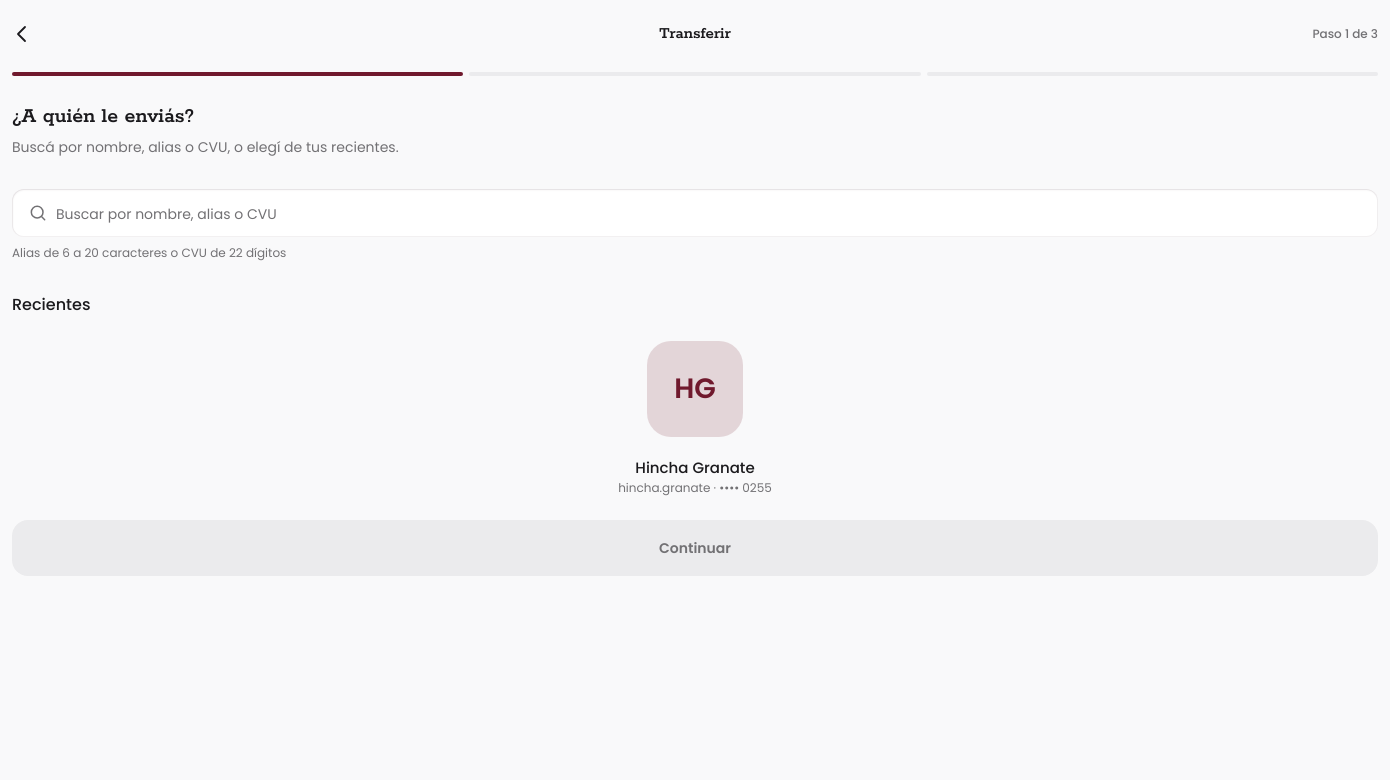
Test case: TransferFlow › offers no lookup while one is pending
Type "ramiro.lanus" into the dropdown labelled "Buscar por nombre, alias o CVU" at (695, 213), box [12, 189, 1378, 237]
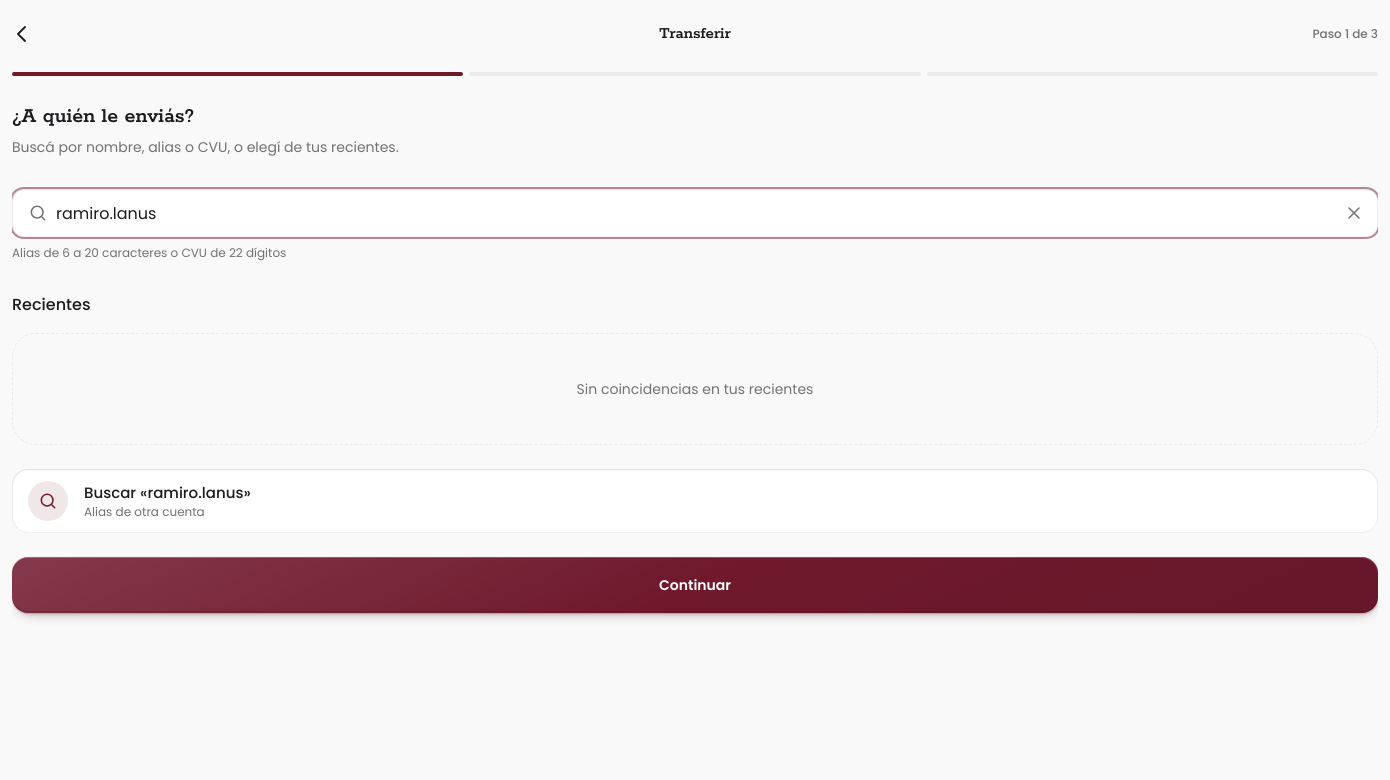
Click the button "Buscar «ramiro.lanus» Alias de otra cuenta" at (48, 501), box [12, 469, 1378, 533]
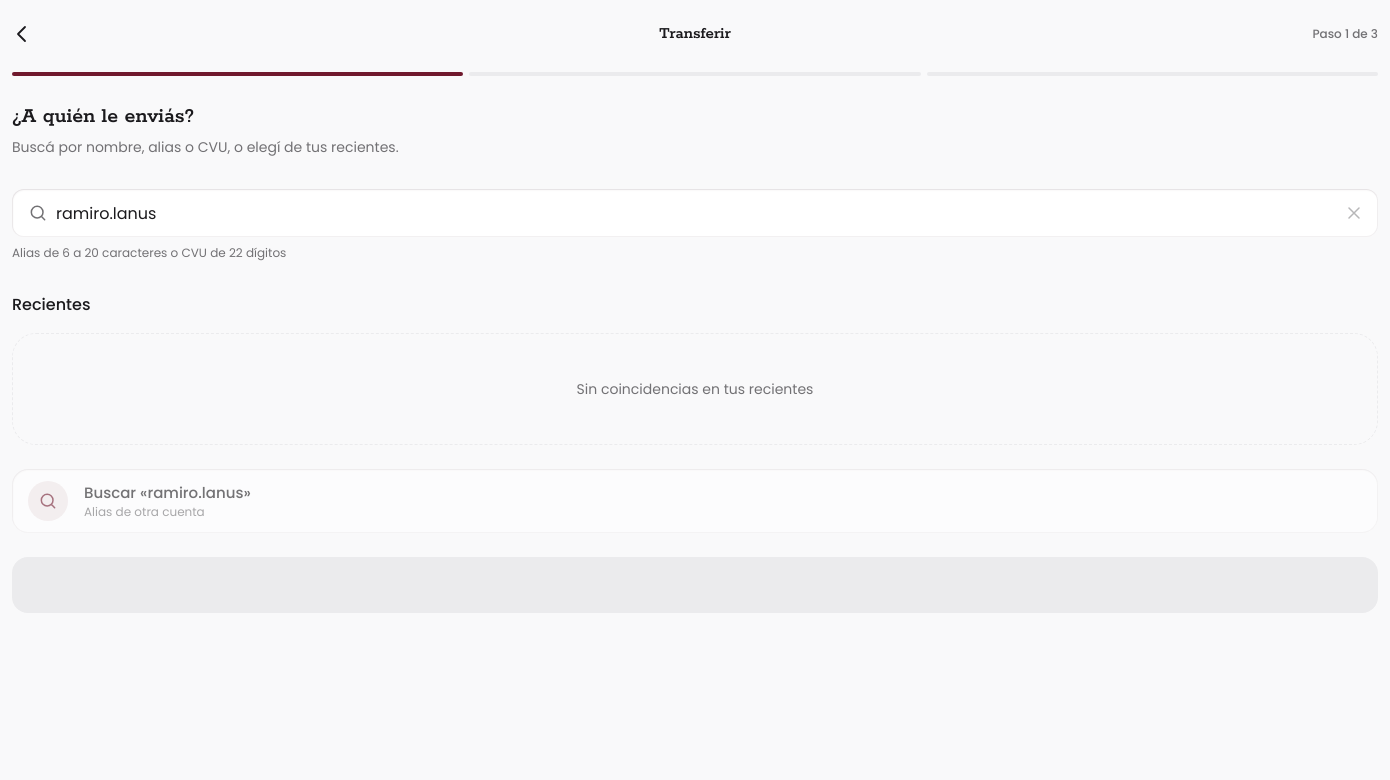
Now the button "Buscar «ramiro.lanus» Alias de otra cuenta" is disabled
Click the button "Buscar «ramiro.lanus» Alias de otra cuenta" at (48, 501), box [12, 469, 1378, 533]
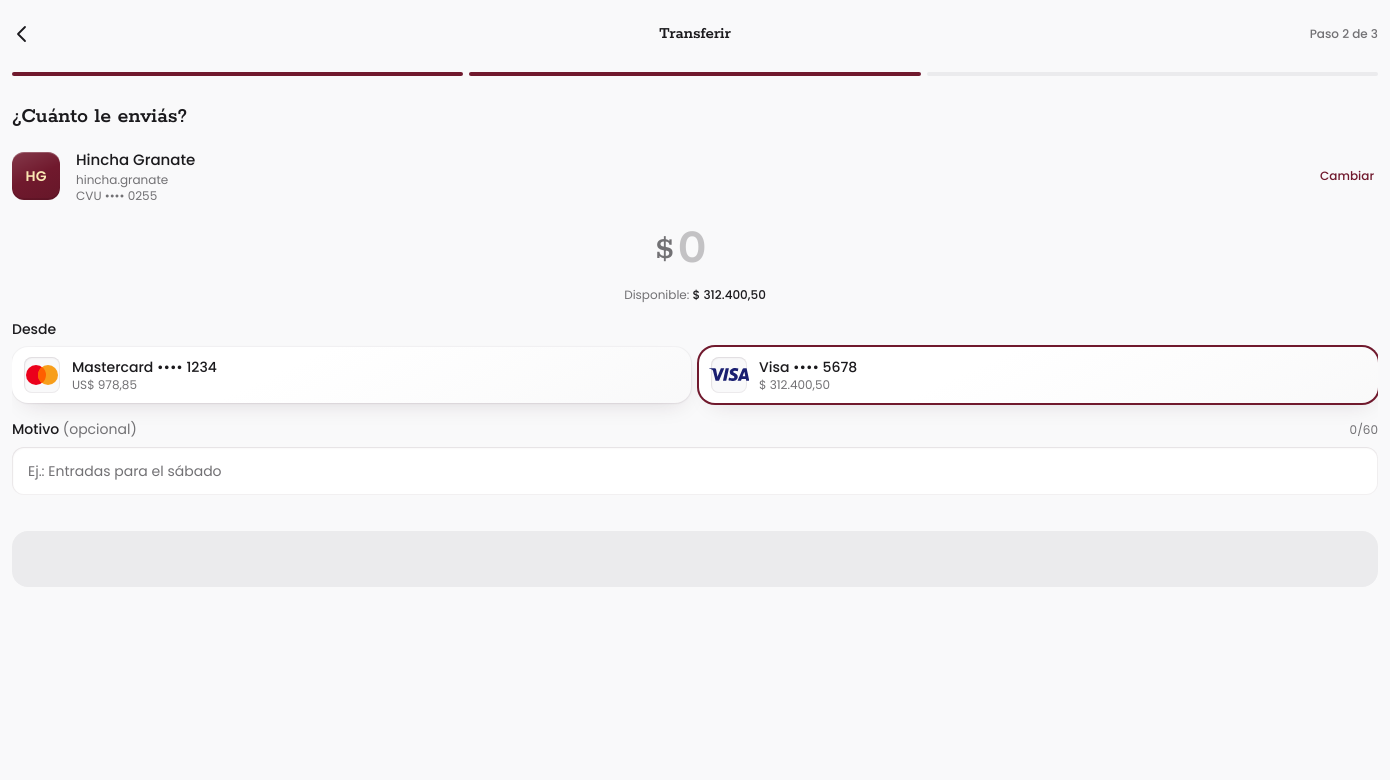
Now the heading "¿Cuánto le enviás?" is shown, box [12, 104, 187, 129]
